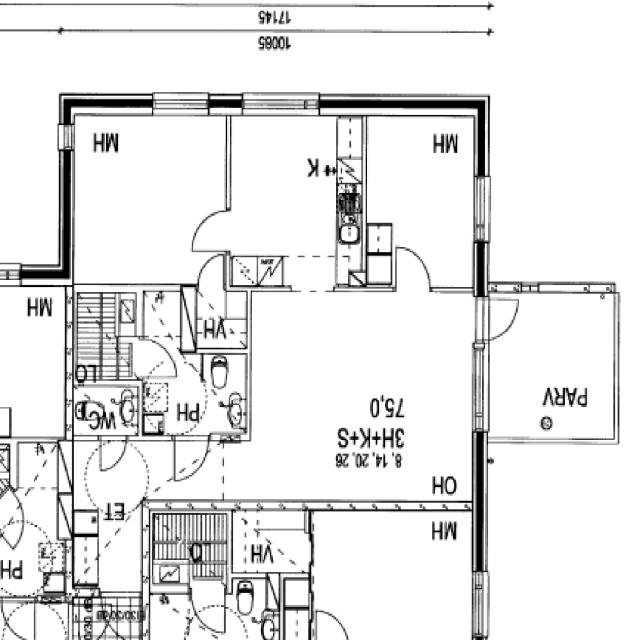door: (184, 202, 234, 259), (190, 578, 227, 638), (478, 291, 522, 341), (171, 430, 211, 483), (134, 336, 178, 381), (394, 243, 433, 290), (0, 594, 36, 640), (92, 432, 130, 474), (36, 598, 71, 640), (195, 251, 230, 293), (311, 606, 351, 640), (160, 591, 192, 623)
window: (466, 333, 494, 438), (233, 90, 324, 118), (144, 86, 217, 116), (470, 166, 494, 248), (502, 277, 598, 296), (468, 566, 492, 640), (317, 498, 401, 516), (253, 498, 304, 514), (55, 119, 76, 152), (291, 284, 336, 298), (0, 262, 27, 284), (233, 501, 260, 514)
zone: (68, 105, 228, 288), (227, 109, 365, 293), (309, 502, 480, 640), (485, 286, 619, 442), (362, 107, 482, 277), (1, 436, 68, 601), (0, 281, 70, 437), (144, 348, 252, 438), (230, 508, 311, 574), (213, 573, 282, 640), (69, 379, 143, 437), (186, 286, 251, 352), (73, 594, 146, 640), (12, 437, 60, 490), (140, 284, 183, 338)
